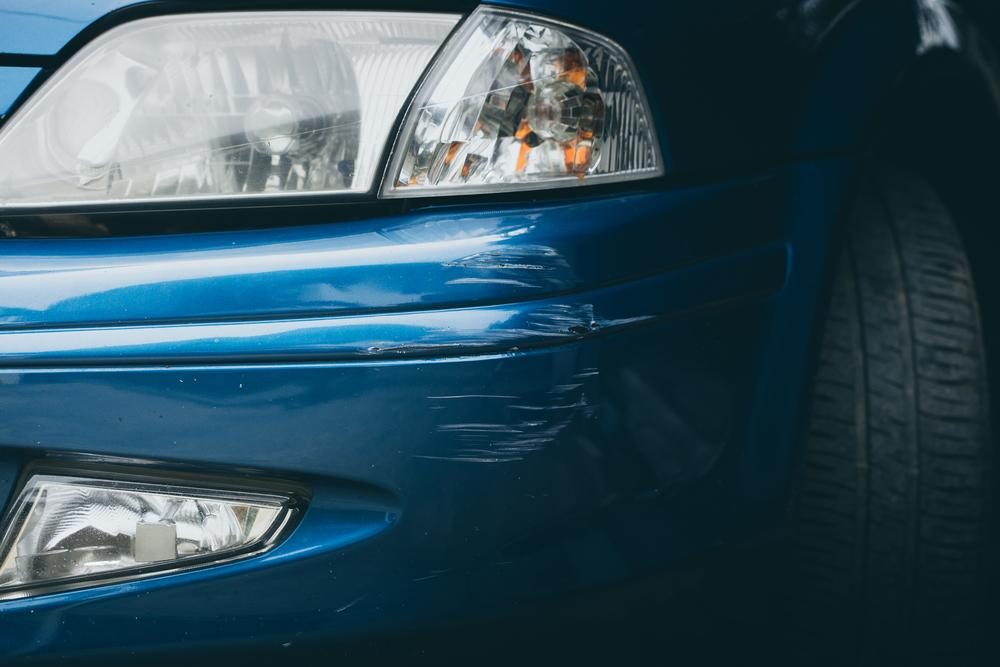scratch: (350, 221, 659, 470)
